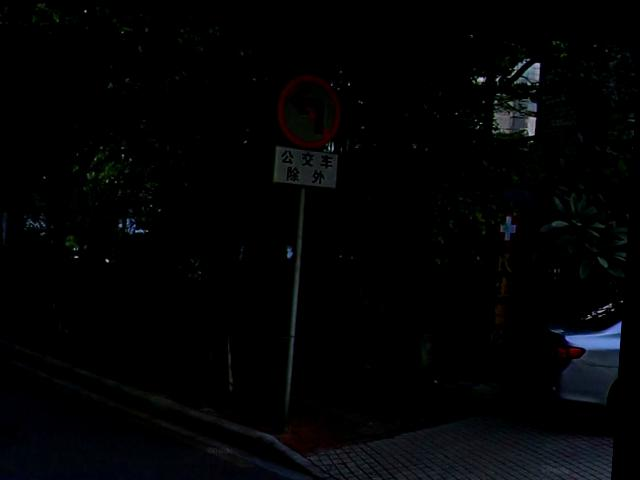not_turn_left: (276, 64, 347, 144)
